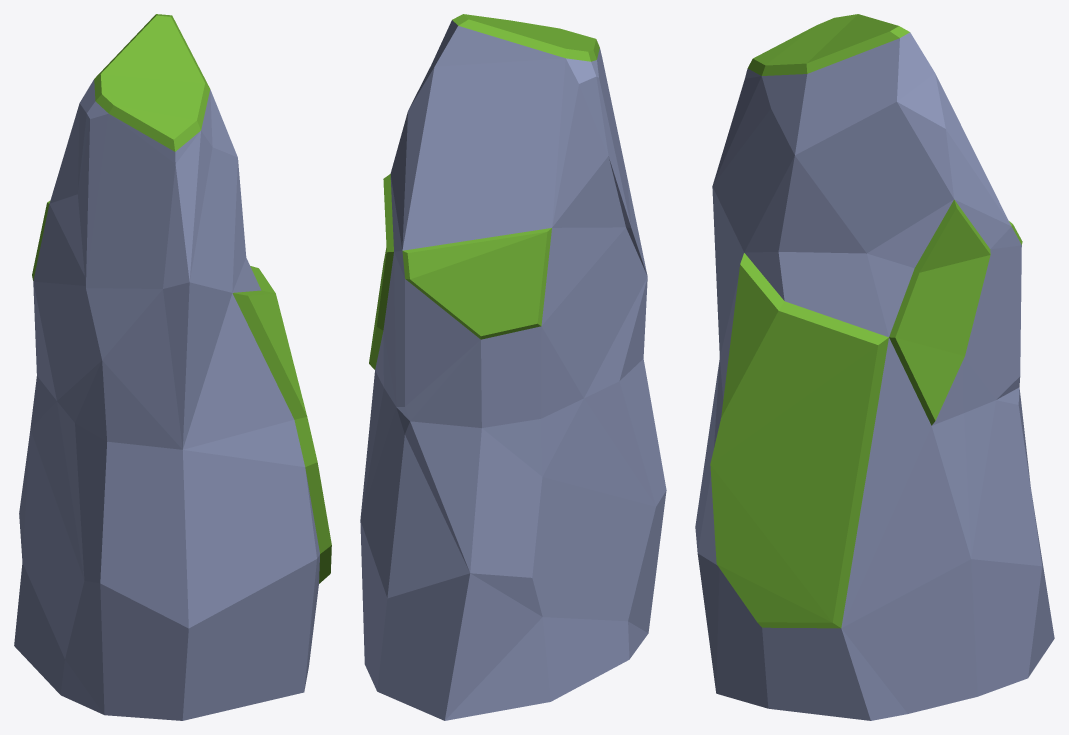
The model's file is Rock_30_1.fbx.
The picture shows the model from 3 angles, left to right: view 1: azimuth 30°, elevation 25°; view 2: azimuth 150°, elevation 25°; view 3: azimuth 270°, elevation 25°; orthographic projection. The views are drawn at different scales.
Parts seen in each view (by area): view 1: Rock_30_1; view 2: Rock_30_1; view 3: Rock_30_1.
Boxes of the visible parts, bbox=[...] form: Rock_30_1: bbox=[14, 14, 331, 720]; Rock_30_1: bbox=[360, 14, 666, 720]; Rock_30_1: bbox=[695, 14, 1054, 720].
Size of the model in its own units: 2.86 by 6.7 by 3.42.
